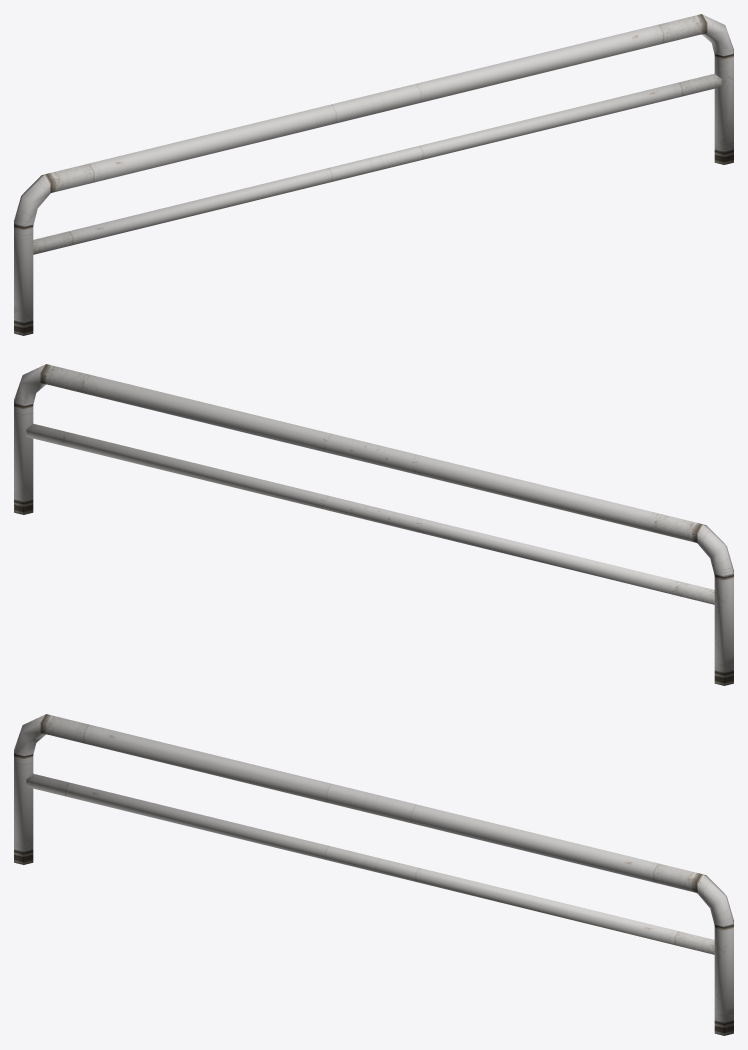
Rendered from scifi_handrail_2.FBX.
3 renders of one model, top to bottom at view 1: azimuth 30°, elevation 25°; view 2: azimuth 150°, elevation 25°; view 3: azimuth 330°, elevation 25°, orthographic.
Parts seen in each view (by area): view 1: Cylinder036; view 2: Cylinder036; view 3: Cylinder036.
Part boxes in pixels (x1,y1,x2,y2): Cylinder036: (14,14,733,335); Cylinder036: (14,364,733,685); Cylinder036: (14,714,733,1035).
Bounding box in the file's own units: 470 × 94.66 × 11.
